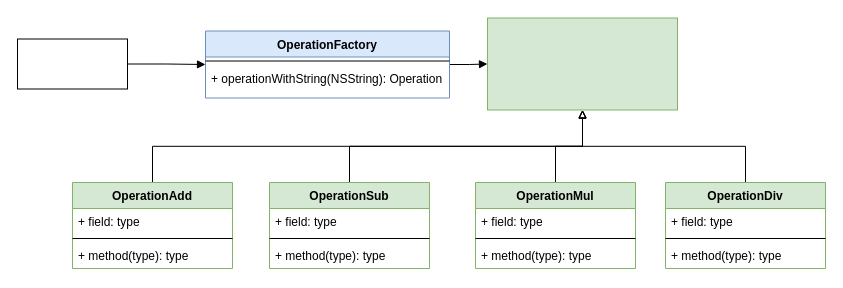
Some shapes in this 843 by 288 pixel diagram are drawn without their labels. The centre of each missing label's shape, as x and y in pixels:
"<<Operation>> + number1: NSInteger + number2: NSInteger + result(): NSInteger" goes at point (582, 63).
"Client" goes at point (72, 63).
